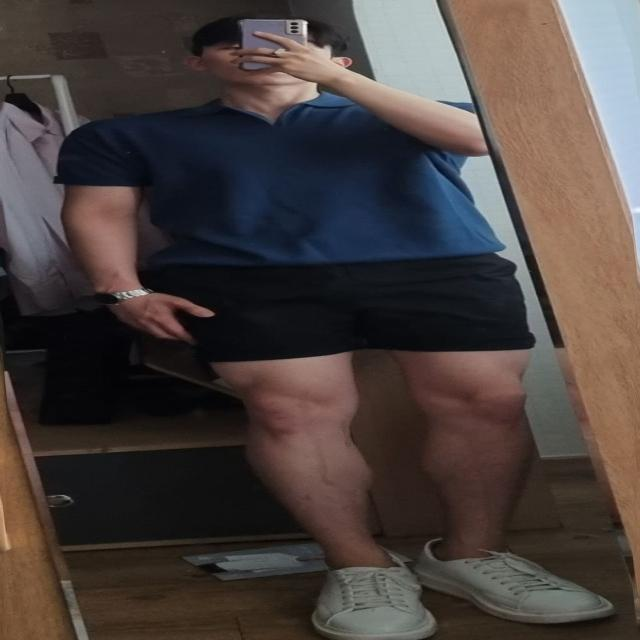shortpants: (152, 238, 532, 368)
shortsleeve: (58, 89, 502, 266)
